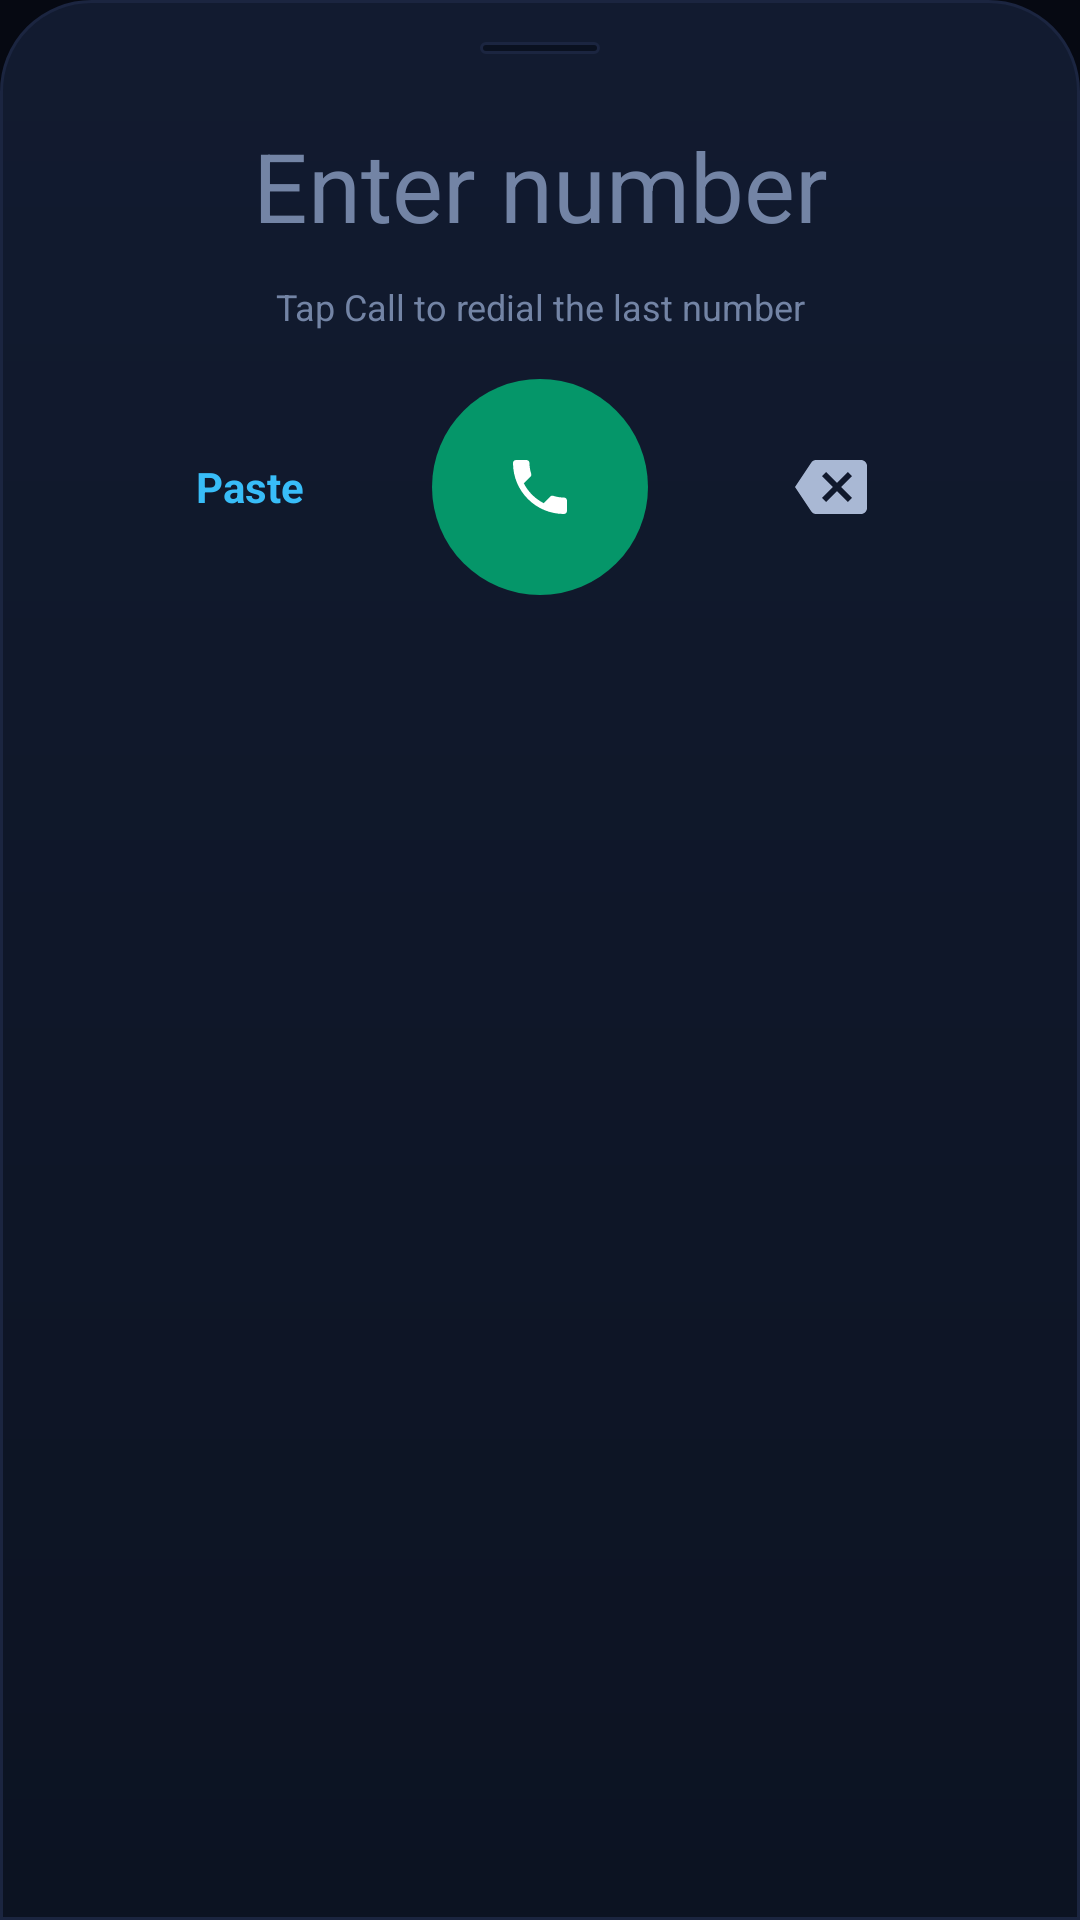

Screen size 1080x1920. Icon name, then its center in pixels as (x,y):
Delete: (831,487)
